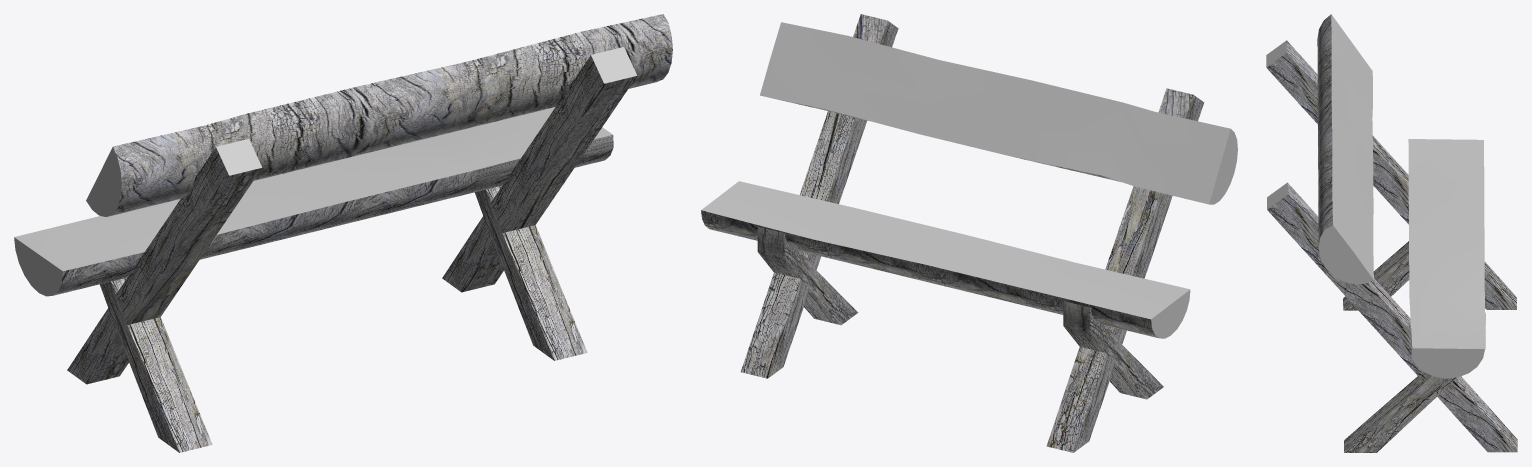
Rendered from bench_big_a_fbx.FBX.
3 views of the same model, side by side, from view 1: azimuth 30°, elevation 25°; view 2: azimuth 150°, elevation 25°; view 3: azimuth 270°, elevation 25° (orthographic). The views are drawn at different scales.
Parts seen in each view (by area): view 1: bench_big_a; view 2: bench_big_a; view 3: bench_big_a.
Part boxes in pixels (<box>): bench_big_a: <box>14,14,672,452</box>; bench_big_a: <box>701,14,1237,452</box>; bench_big_a: <box>1266,14,1517,452</box>.
Bounding box in the file's own units: 250 × 127 × 144.
